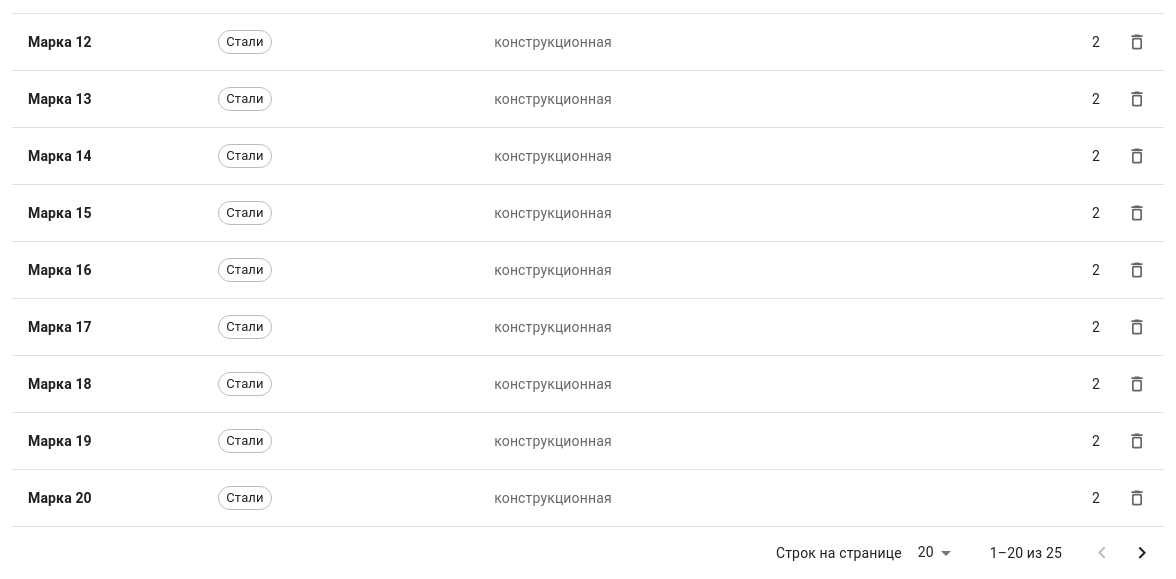
Test: GradesPage › keeps the chosen page when the unchanged search box settles
(page scrolled)
What coordinates should you click on to do the following:
click the button named "Следующая страница"
I would click on:
 (1142, 553)
Its box is [1122,533,1162,573].
(page scrolled)
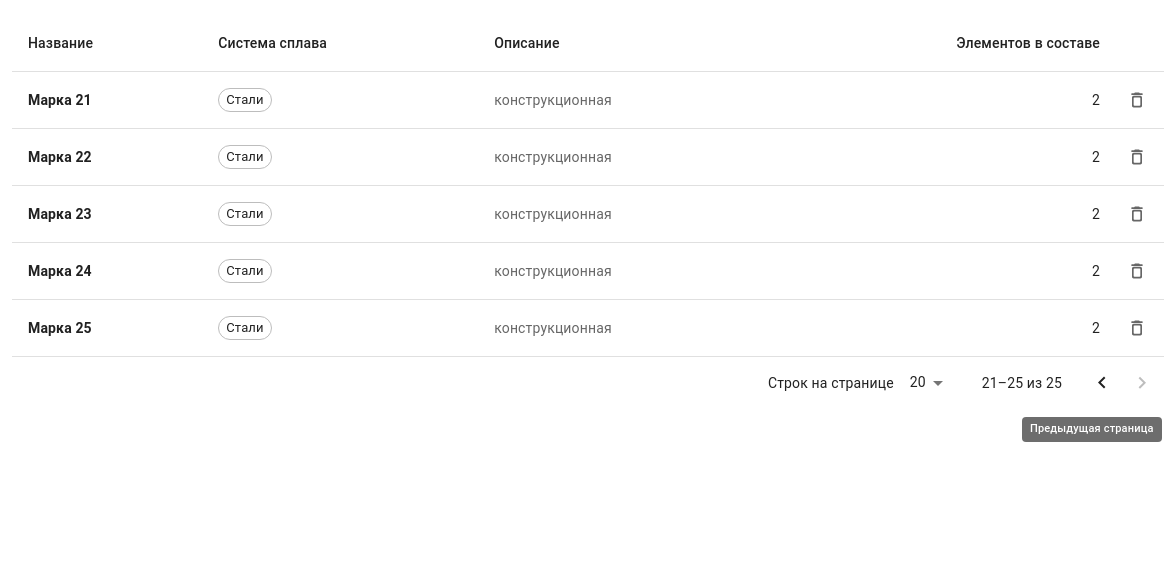
Expected: the text "Марка 21" is shown, [12,72,202,128]
Expected: the text "21–25 из 25" is shown, [982,373,1062,393]
